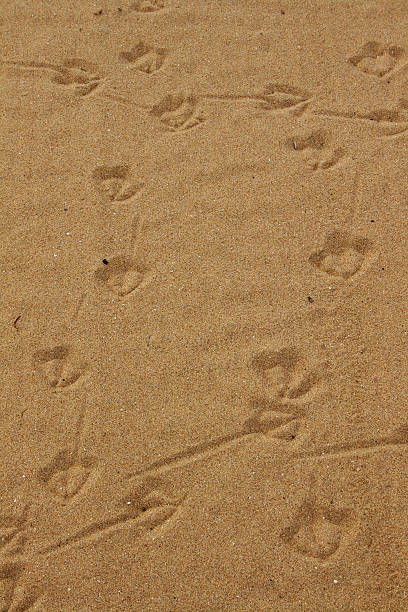human_footprint: (280, 497, 348, 561), (280, 498, 348, 561), (252, 346, 324, 401), (104, 479, 180, 530), (7, 58, 102, 96), (309, 230, 371, 279), (38, 447, 94, 500), (247, 396, 310, 440), (314, 106, 407, 134), (34, 345, 86, 389), (348, 41, 407, 78), (94, 255, 147, 296), (150, 92, 203, 130), (292, 130, 343, 169), (93, 167, 142, 201), (121, 40, 166, 73), (250, 84, 309, 109), (122, 273, 122, 276)
